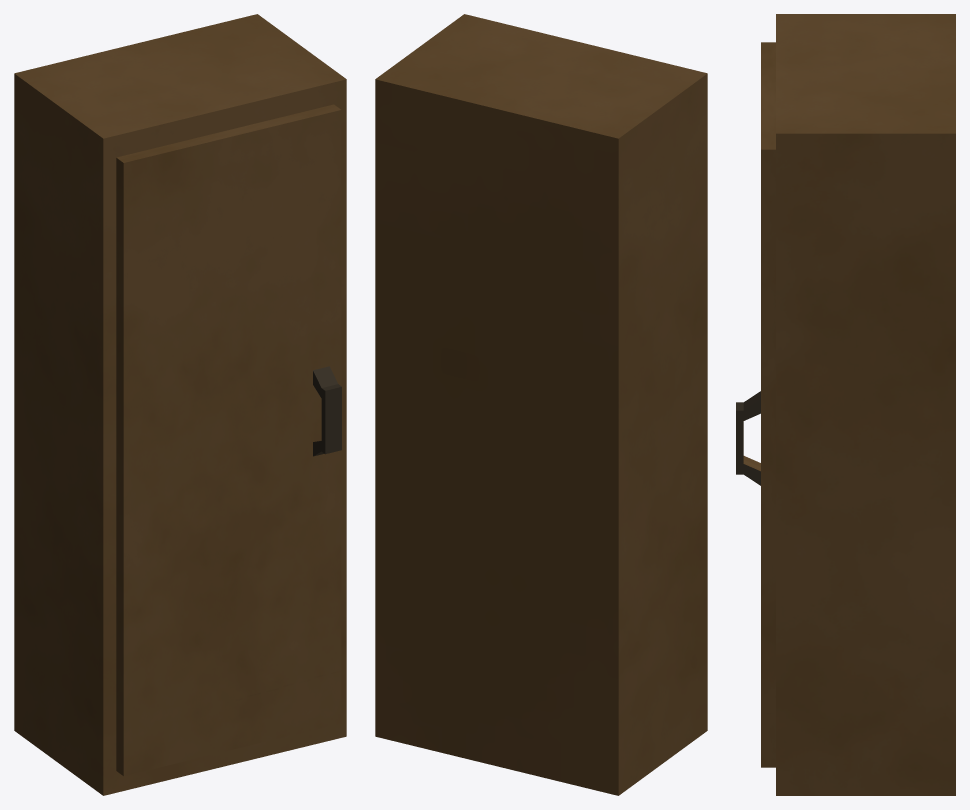
Rendered from TallCabinet_Fixed.fbx.
3 views of the same model, side by side, from view 1: azimuth 30°, elevation 25°; view 2: azimuth 150°, elevation 25°; view 3: azimuth 270°, elevation 25° (orthographic).
Parts seen in each view (by area): view 1: pCube27; view 2: pCube27; view 3: pCube27.
Boxes of the visible parts, x1,y1,x2,y2 form: pCube27: (14,14,346,795); pCube27: (375,14,707,795); pCube27: (736,14,955,795).
Size of the model in its own units: 49.02 by 127 by 38.06.
